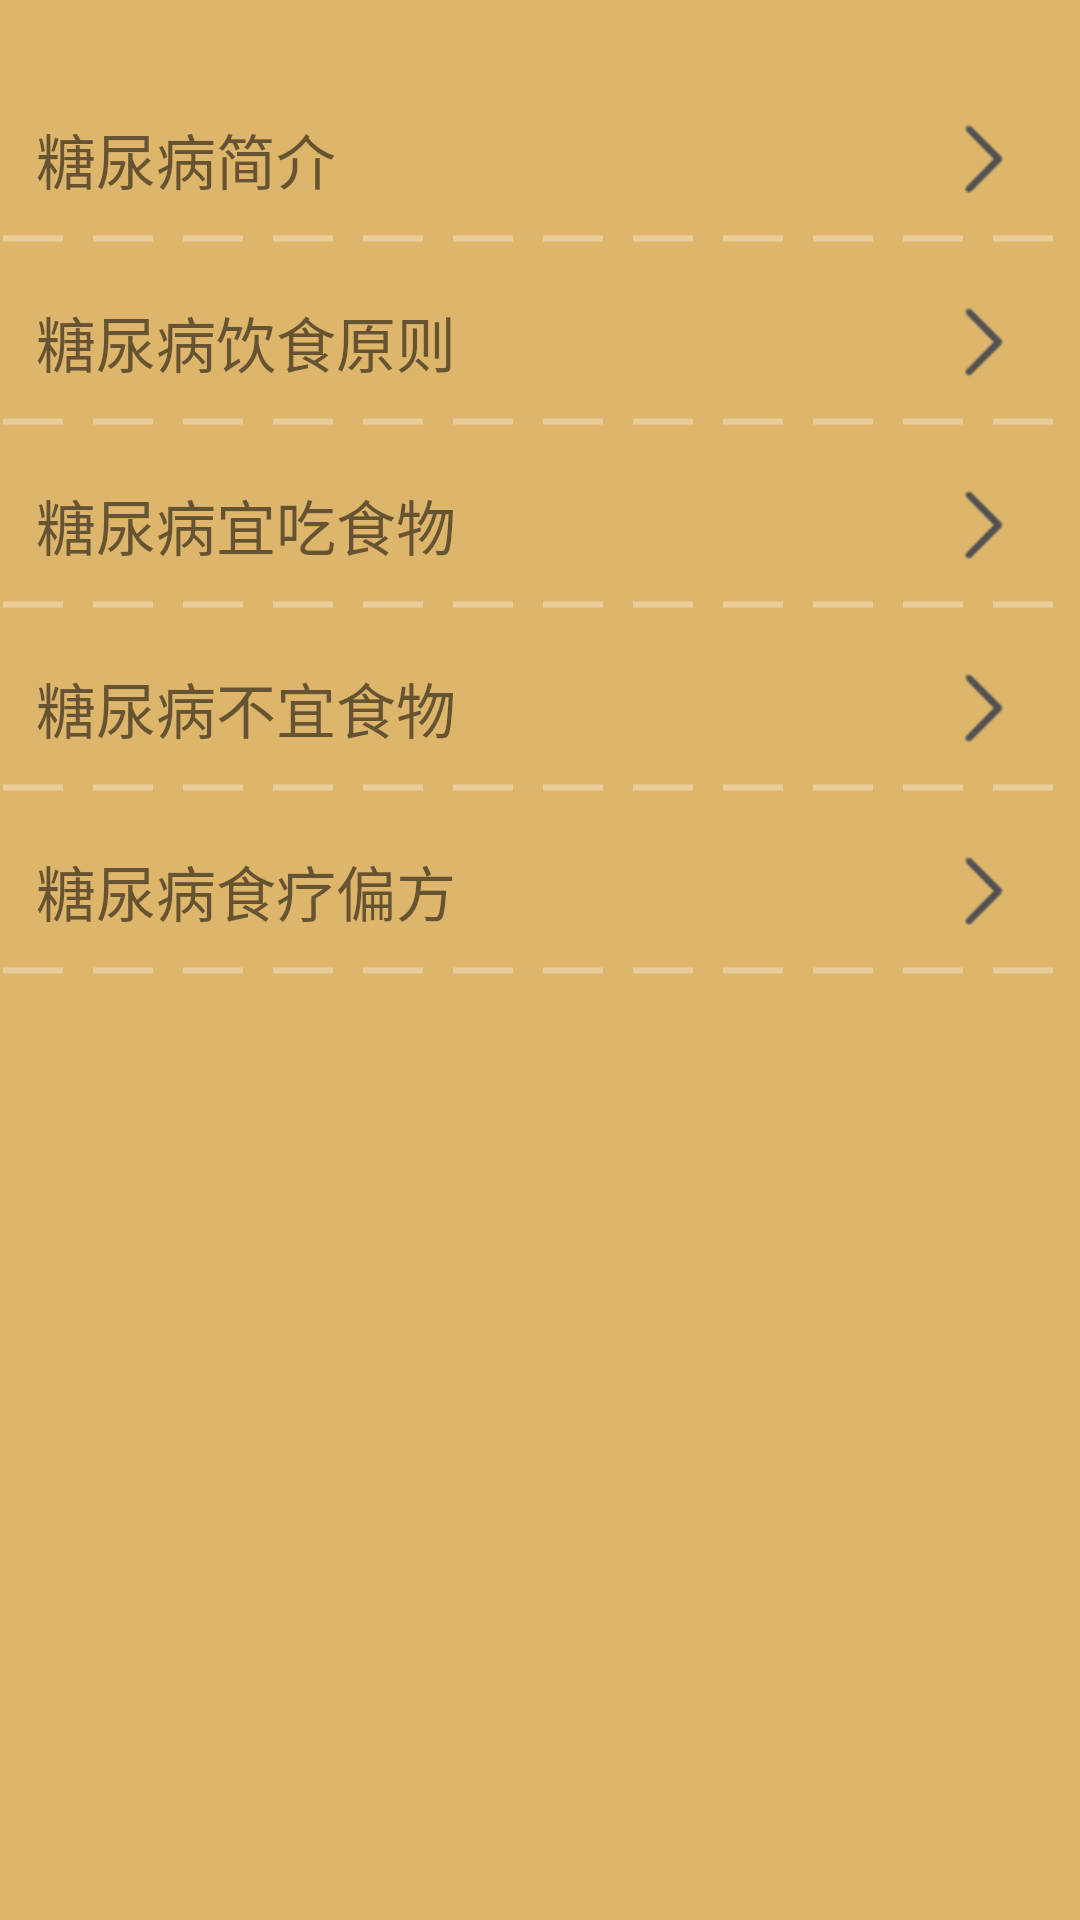

Named icons in this screenshot (1080px x 1920px) and their bounding boxes, (x1,y1,x2,y2):
arrow right: (965,125,1003,193), (965,308,1003,376), (965,491,1003,559), (965,674,1003,742), (965,857,1003,925)
